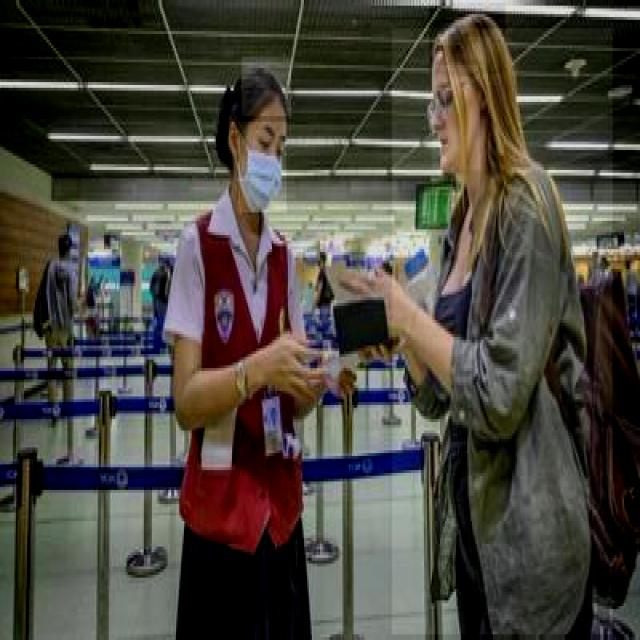face_mask: (237, 122, 286, 215)
face_nomask: (430, 65, 480, 173)
glasses: (424, 85, 453, 130)
hand_noglove: (270, 322, 328, 404)
head_nohelmet: (427, 3, 506, 76), (240, 57, 291, 119)
person: (390, 28, 613, 637), (166, 54, 320, 637)
